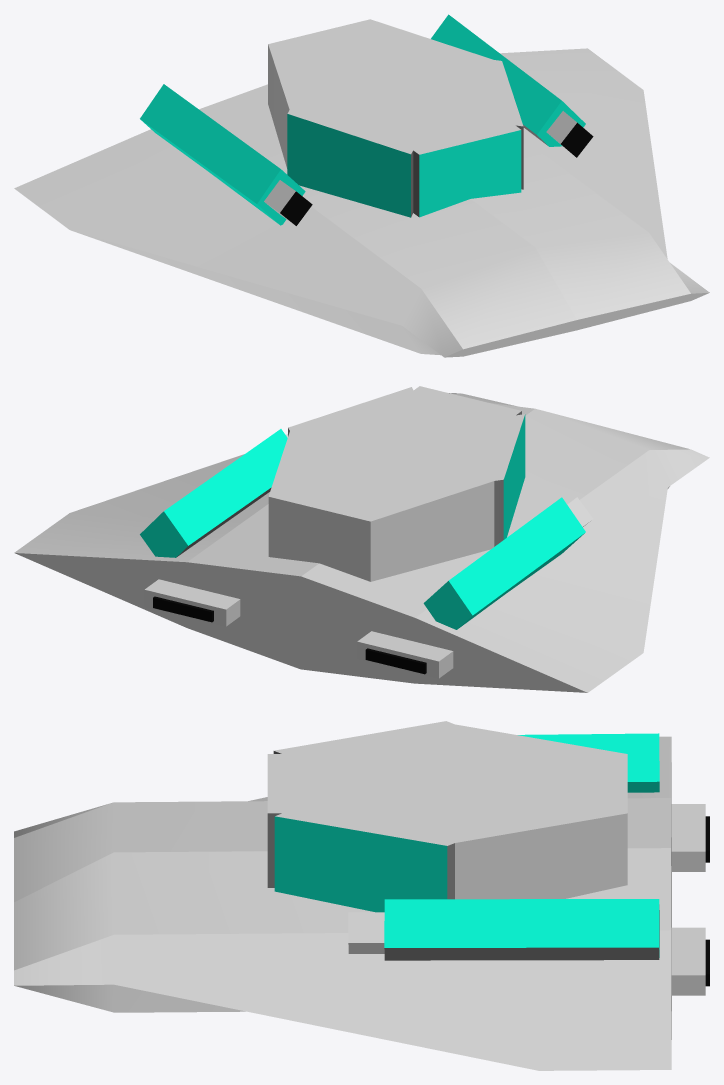
File: Complete Ally Lazarous OBJ.obj
3 renders of one model, top to bottom at view 1: azimuth 30°, elevation 25°; view 2: azimuth 150°, elevation 25°; view 3: azimuth 270°, elevation 25°, orthographic. The views are drawn at different scales.
Visible parts, largest first — view 1: pCylinder1, pasted__pCylinder1 group3, pasted__pasted__pCylinder3 pasted__group1 group4; view 2: pCylinder1, pasted__pCylinder1 group3, pasted__pasted__pCylinder3 pasted__group1 group4, pasted__pasted__pCube2 pasted__group1 group2, pasted__pCube2 group1, pasted__group1 group2 pasted__pasted__pasted__pCube2 pasted__pas, group1 pasted__pasted__pCube2 pasted__group; view 3: pCylinder1, pasted__pCylinder1 group3, pasted__pasted__pCylinder3 pasted__group1 group4, pasted__pCube2 group1, pasted__pasted__pCube2 pasted__group1 group2.
Boxes of the visible parts, bbox=[...] form: pCylinder1: bbox=[14, 48, 709, 357]; pasted__pCylinder1 group3: bbox=[268, 19, 523, 217]; pasted__pasted__pCylinder3 pasted__group1 group4: bbox=[140, 14, 593, 225]; pCylinder1: bbox=[14, 393, 709, 692]; pasted__pCylinder1 group3: bbox=[268, 386, 525, 581]; pasted__pasted__pCylinder3 pasted__group1 group4: bbox=[140, 429, 593, 629]; pasted__pasted__pCube2 pasted__group1 group2: bbox=[357, 631, 453, 678]; pasted__pCube2 group1: bbox=[144, 579, 240, 626]; pasted__group1 group2 pasted__pasted__pasted__pCube2 pasted__pas: bbox=[365, 648, 426, 674]; group1 pasted__pasted__pCube2 pasted__group: bbox=[153, 596, 213, 622]; pCylinder1: bbox=[14, 736, 671, 1070]; pasted__pCylinder1 group3: bbox=[267, 721, 627, 912]; pasted__pasted__pCylinder3 pasted__group1 group4: bbox=[348, 733, 659, 960]; pasted__pCube2 group1: bbox=[671, 927, 705, 995]; pasted__pasted__pCube2 pasted__group1 group2: bbox=[671, 804, 705, 871].
Bounding box in the file's own units: 12.96 × 3.24 × 11.44.
